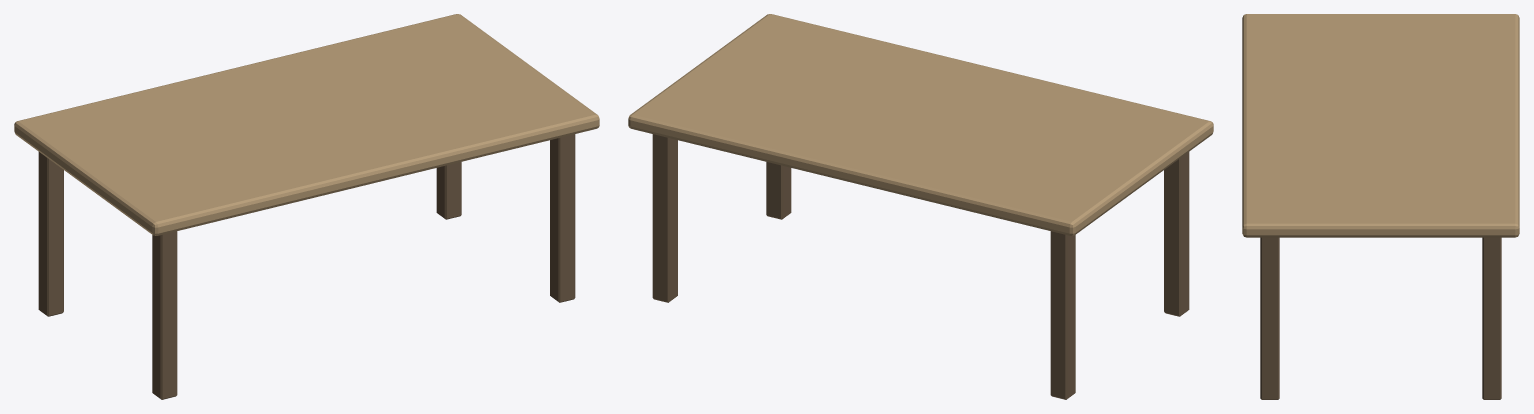
File: table_coffee.glb
3 views of the same model, side by side, from view 1: azimuth 30°, elevation 25°; view 2: azimuth 150°, elevation 25°; view 3: azimuth 270°, elevation 25° (orthographic). The views are drawn at different scales.
Visible parts, largest first — view 1: table_coffee; view 2: table_coffee; view 3: table_coffee.
Part boxes in pixels (bbox=[...]): table_coffee: bbox=[14, 14, 599, 399]; table_coffee: bbox=[628, 14, 1213, 399]; table_coffee: bbox=[1242, 14, 1519, 399].
Size of the model in its own units: 1 by 0.4 by 0.55.
